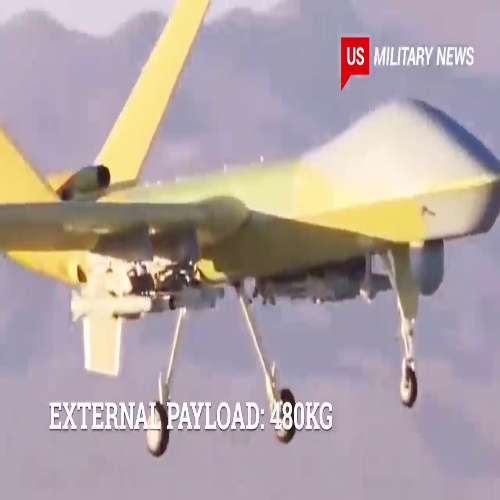uav410: (3, 6, 500, 450)
